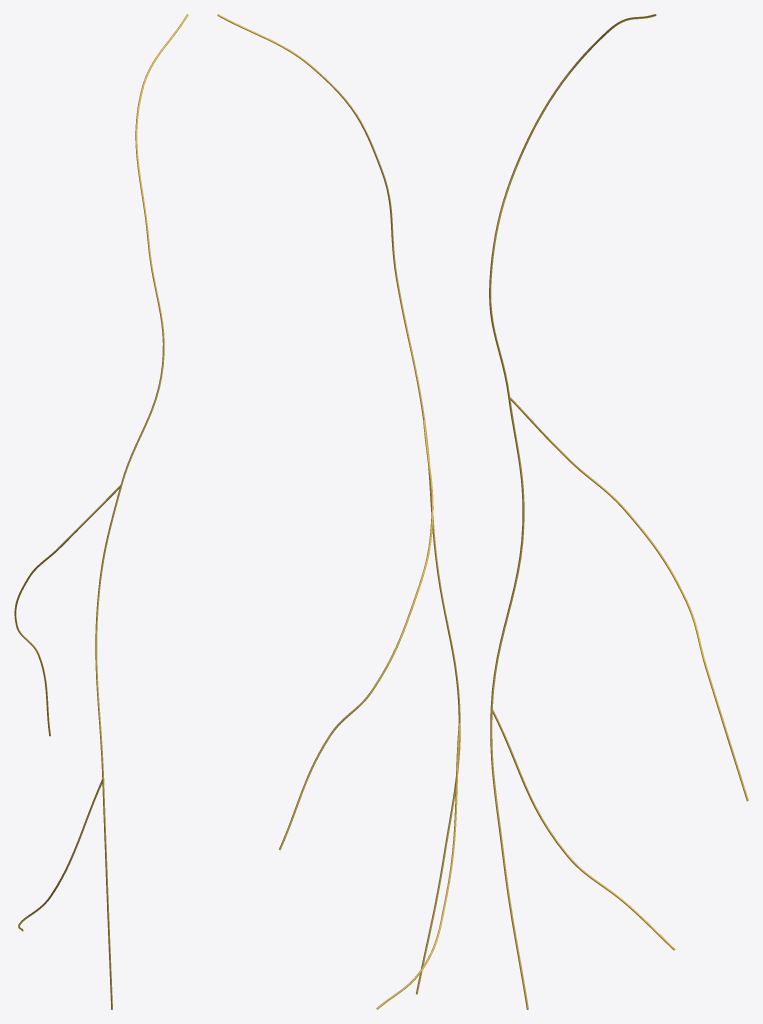
The model's file is Lateral_femoral_cutaneous_nerve_right.glb.
3 renders of one model, left to right at view 1: azimuth 30°, elevation 25°; view 2: azimuth 150°, elevation 25°; view 3: azimuth 270°, elevation 25°, orthographic. The views are drawn at different scales.
Visible parts, largest first — view 1: Lateral_femoral_cutaneous_nerve.r_BezierCurve.517; view 2: Lateral_femoral_cutaneous_nerve.r_BezierCurve.517; view 3: Lateral_femoral_cutaneous_nerve.r_BezierCurve.517.
Boxes of the visible parts, bbox=[...] form: Lateral_femoral_cutaneous_nerve.r_BezierCurve.517: bbox=[14, 14, 188, 1009]; Lateral_femoral_cutaneous_nerve.r_BezierCurve.517: bbox=[217, 14, 460, 1009]; Lateral_femoral_cutaneous_nerve.r_BezierCurve.517: bbox=[489, 14, 748, 1009].
Bounding box in the file's own units: 0.1083 × 0.5251 × 0.1157.
